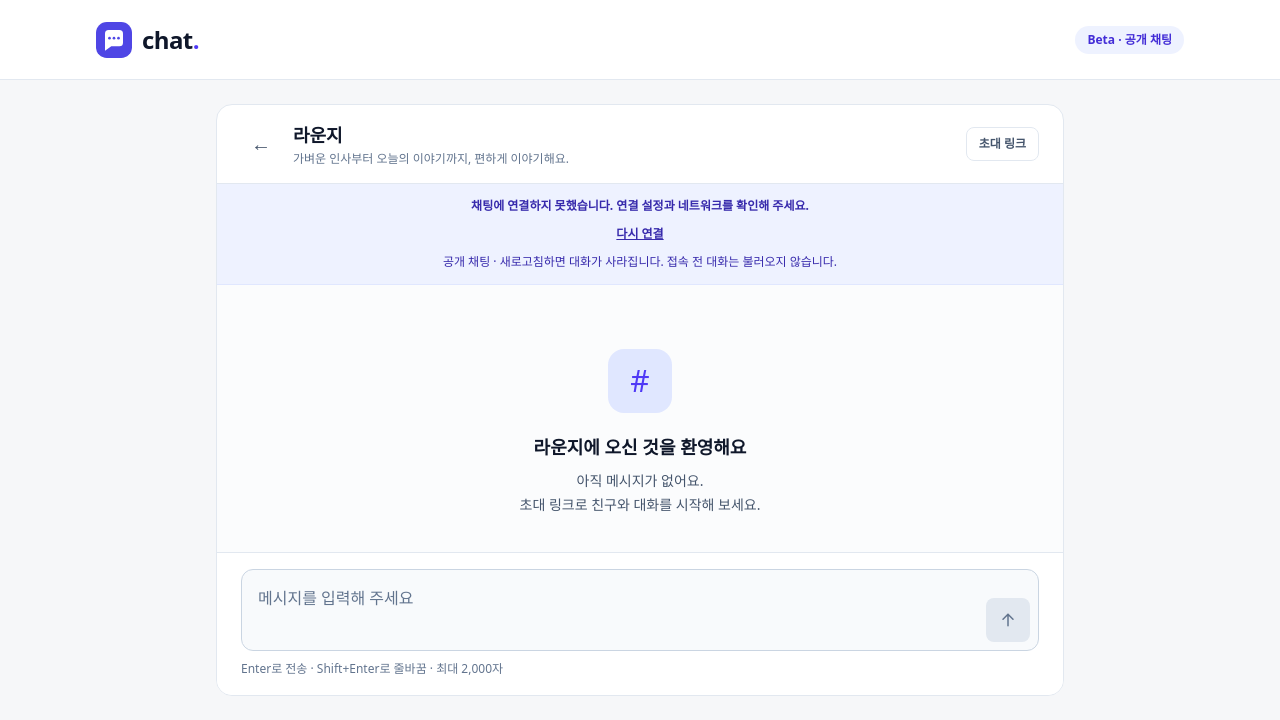
Test case: 채팅 페이지 › 연결 오류에서는 전송을 막고 재시도로 새 연결을 만든다
Type "보존할 초안" into the text box labelled "메시지".
click(612, 610); type("보존할 초안")  # box [250,578,974,642]
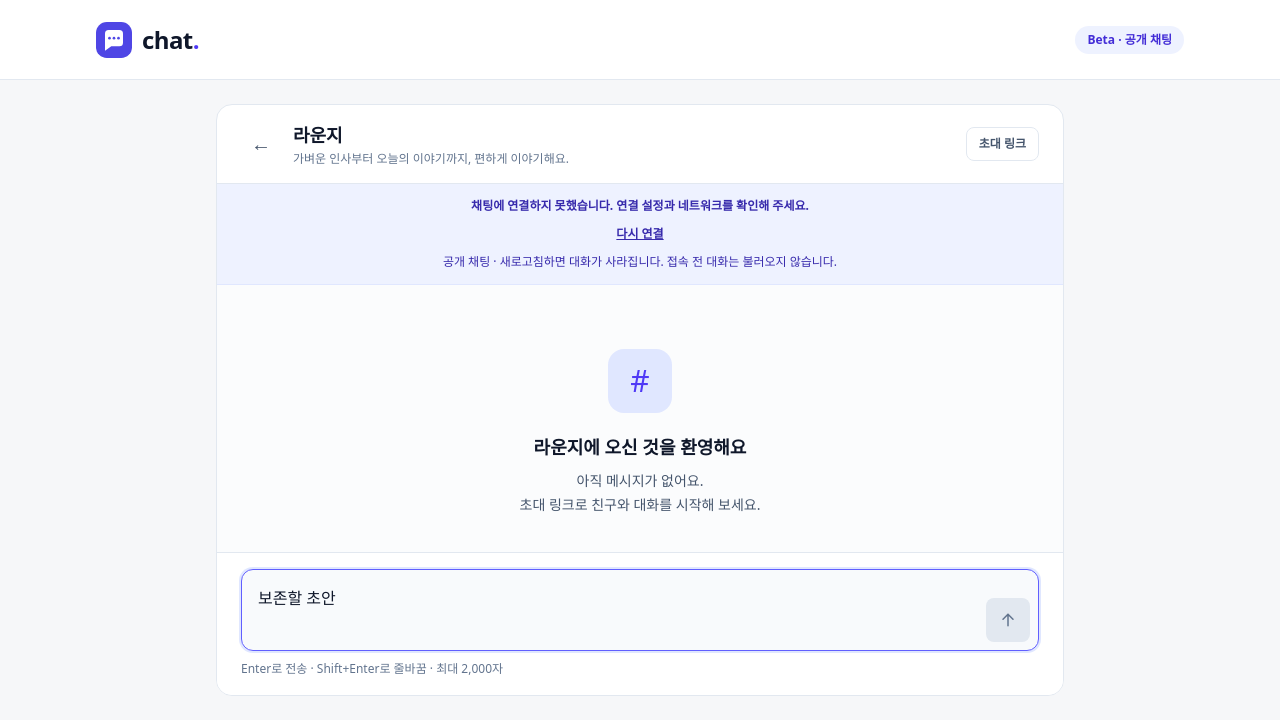
Expected: the button named "메시지 보내기" is disabled, [986,598,1030,642]
Click the button "다시 연결".
click(640, 234)  # box [608,220,672,248]
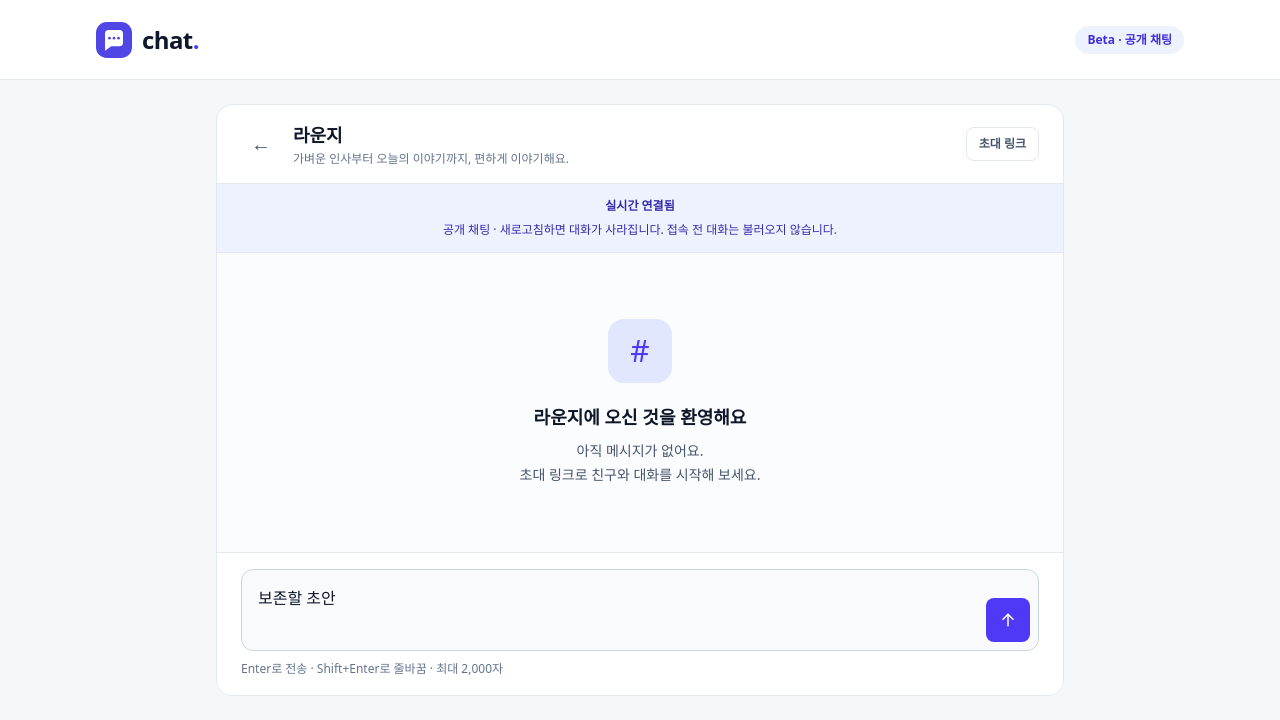
Now the button named "메시지 보내기" is enabled, box [986,598,1030,642]
